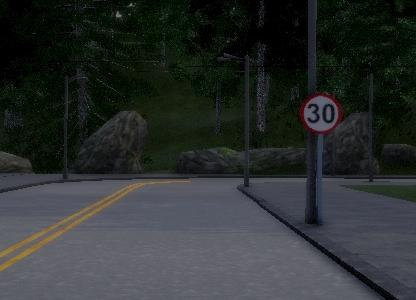Speed_30: (300, 93, 343, 136)
